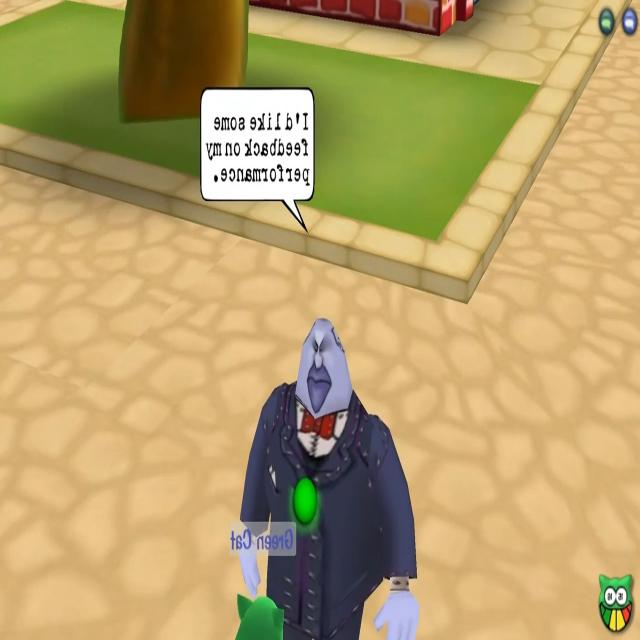bottomfeeder: (190, 80, 428, 640)
